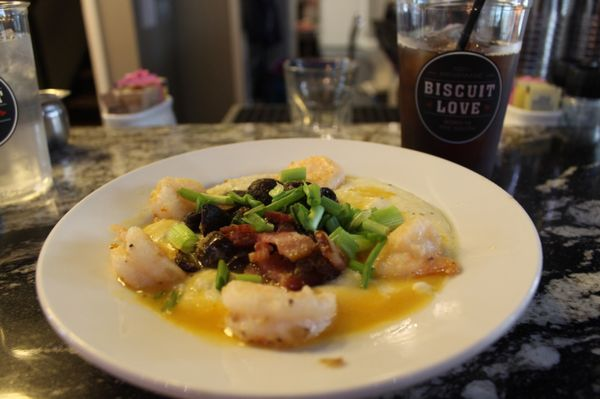pizza: (81, 1, 178, 134), (0, 10, 61, 218), (282, 56, 353, 139)
